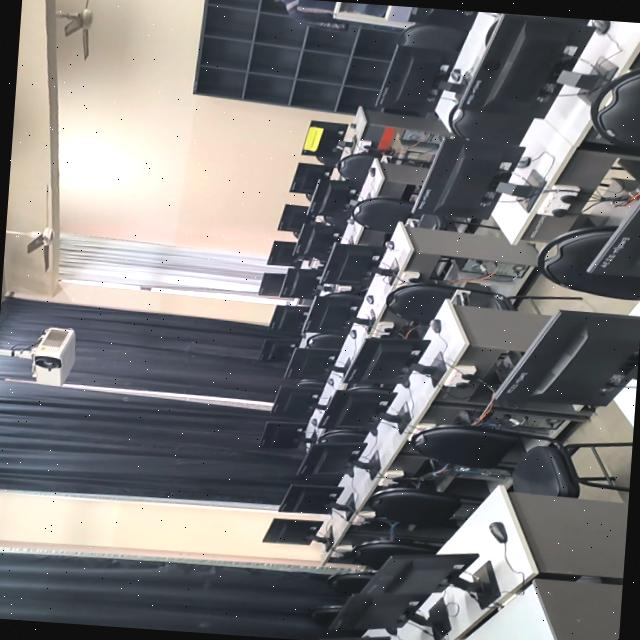Chair: (411, 425, 632, 496), (537, 224, 640, 299), (590, 66, 640, 148), (370, 487, 461, 525), (449, 104, 532, 142), (342, 540, 438, 568), (399, 23, 465, 57), (351, 196, 413, 231), (335, 150, 380, 181), (328, 570, 374, 595), (309, 602, 343, 627), (305, 333, 344, 350)
Cpu: (454, 257, 526, 282)
Monitor: (459, 12, 604, 116), (495, 309, 640, 406), (416, 136, 524, 218), (375, 42, 455, 114), (364, 551, 480, 594), (329, 591, 435, 633), (345, 336, 430, 384), (589, 200, 640, 276), (318, 386, 395, 428), (299, 444, 379, 477), (323, 242, 385, 284), (278, 483, 353, 513), (301, 119, 350, 164), (304, 294, 360, 332), (262, 517, 332, 546), (295, 222, 344, 261), (309, 177, 356, 215), (284, 346, 338, 378), (271, 384, 324, 414), (409, 6, 476, 27), (260, 420, 312, 447), (280, 266, 322, 298), (289, 162, 330, 194), (277, 204, 314, 235), (269, 304, 308, 333), (259, 338, 297, 361), (267, 239, 299, 264), (258, 271, 285, 295), (318, 635, 389, 640)
Mouse: (489, 521, 507, 541), (429, 317, 441, 331), (515, 156, 530, 167), (384, 239, 395, 249), (365, 293, 373, 303), (327, 377, 333, 385), (369, 167, 375, 175), (350, 329, 355, 337)
Projector: (32, 326, 75, 385)
